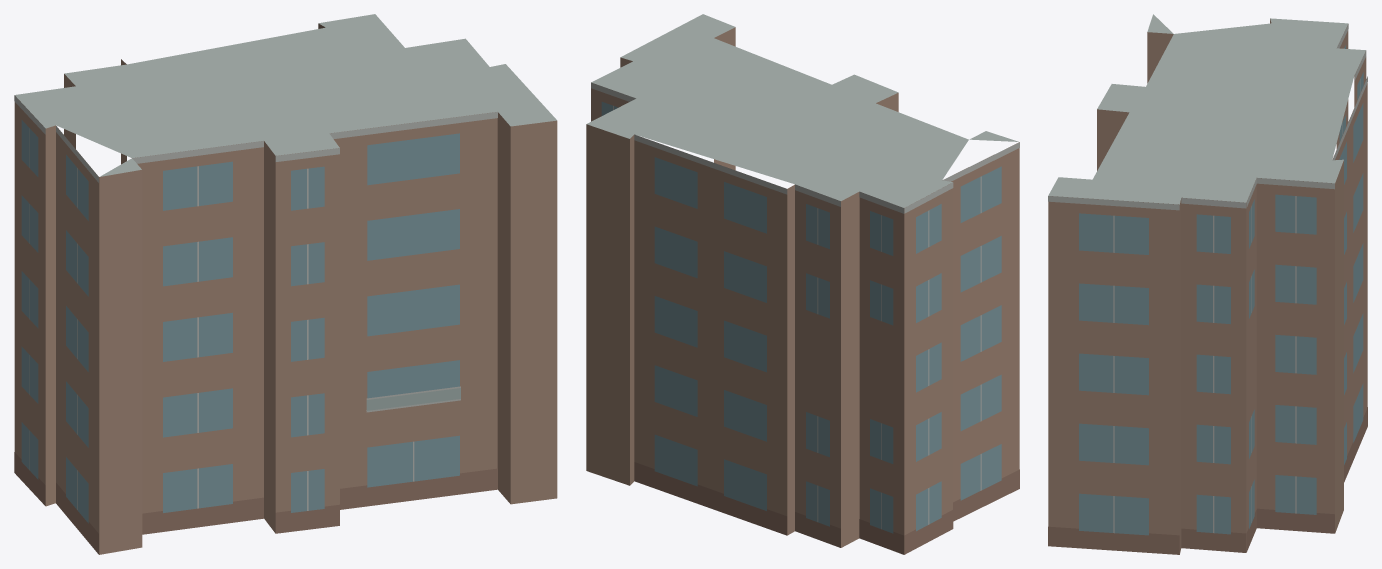
File: survey-upis-32601744.glb
3 renders of one model, left to right at view 1: azimuth 30°, elevation 25°; view 2: azimuth 150°, elevation 25°; view 3: azimuth 270°, elevation 25°, orthographic. The views are drawn at different scales.
Visible parts, largest first — view 1: survey-upis-32601744.tmp; view 2: survey-upis-32601744.tmp; view 3: survey-upis-32601744.tmp.
Part boxes in pixels (bbox=[...]): survey-upis-32601744.tmp: bbox=[14, 14, 557, 554]; survey-upis-32601744.tmp: bbox=[586, 14, 1019, 554]; survey-upis-32601744.tmp: bbox=[1048, 14, 1367, 554].
Size of the model in its own units: 16.92 by 14.5 by 11.99.
